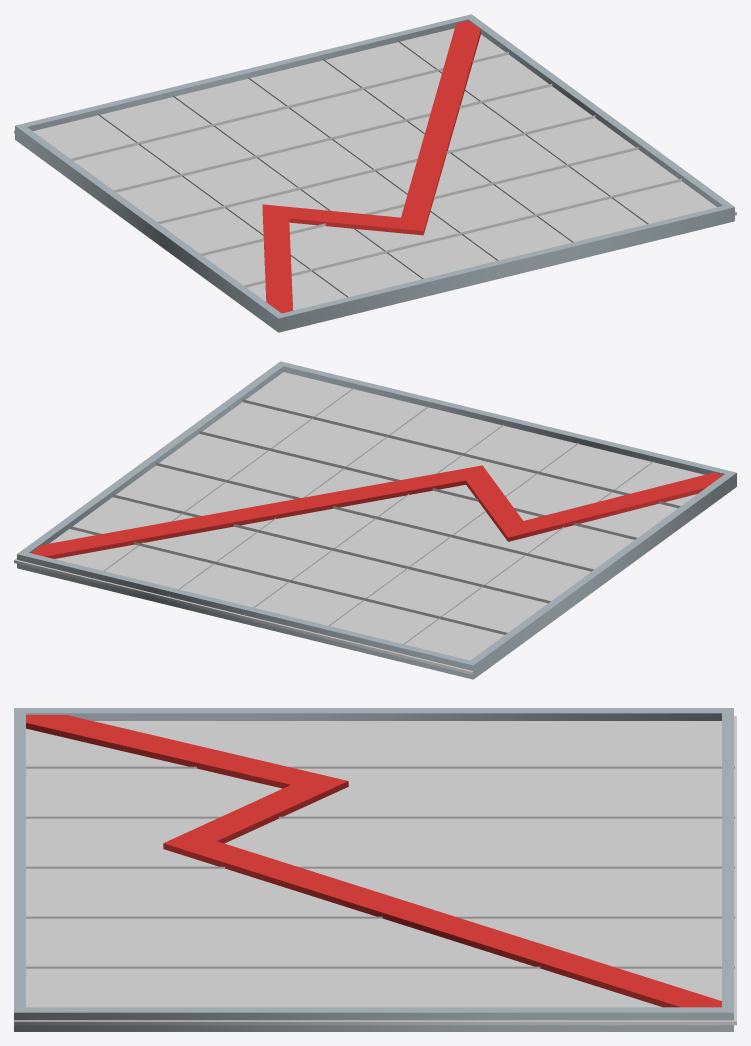
The model's file is emoji_u1f4c8.glb.
3 renders of one model, top to bottom at view 1: azimuth 30°, elevation 25°; view 2: azimuth 150°, elevation 25°; view 3: azimuth 270°, elevation 25°, orthographic. The views are drawn at different scales.
Parts seen in each view (by area): view 1: emoji_u1f4c8; view 2: emoji_u1f4c8; view 3: emoji_u1f4c8.
Boxes of the visible parts, <box> form: emoji_u1f4c8: <box>14,14,736,332</box>; emoji_u1f4c8: <box>14,361,736,679</box>; emoji_u1f4c8: <box>14,708,736,1031</box>.
Bounding box in the file's own units: 0.0339 × 0.001 × 0.0339.
